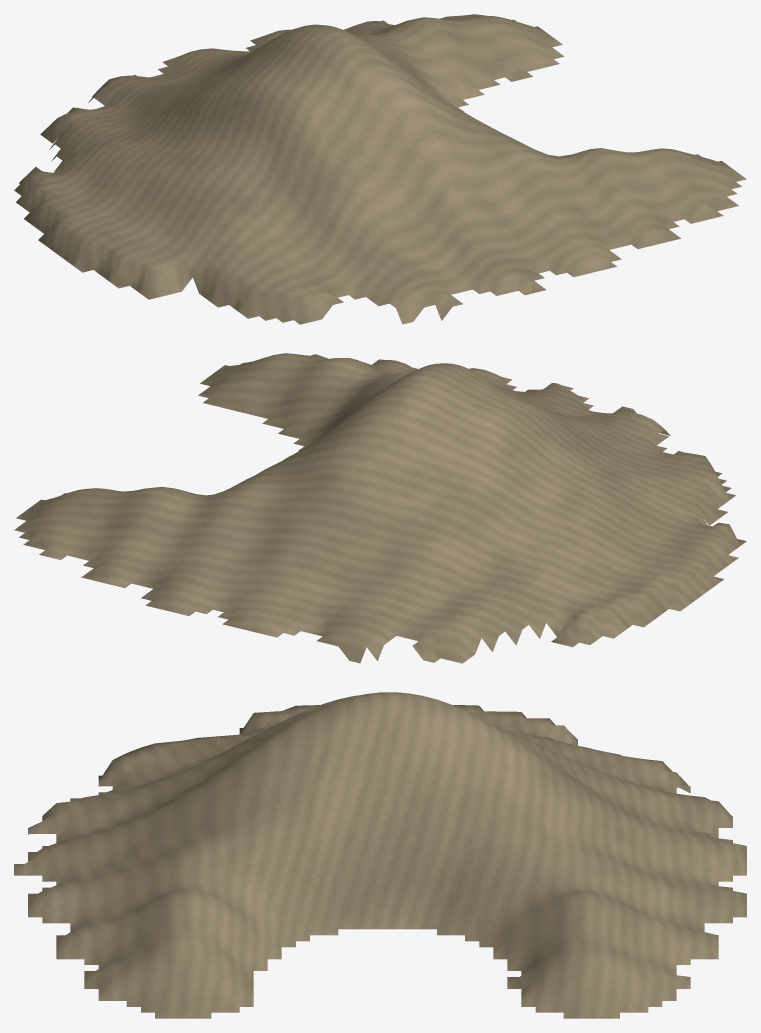
File: border_dune_a_v5_dead.glb
3 renders of one model, top to bottom at view 1: azimuth 30°, elevation 25°; view 2: azimuth 150°, elevation 25°; view 3: azimuth 270°, elevation 25°, orthographic. The views are drawn at different scales.
Visible parts, largest first — view 1: border_dune_a; view 2: border_dune_a; view 3: border_dune_a.
Boxes of the visible parts, <box> form: border_dune_a: <box>14,14,746,324</box>; border_dune_a: <box>14,353,746,663</box>; border_dune_a: <box>14,692,746,1018</box>.
Bounding box in the file's own units: 1.04 × 0.2602 × 1.02.
Materials: 1 (1 with a texture image).
